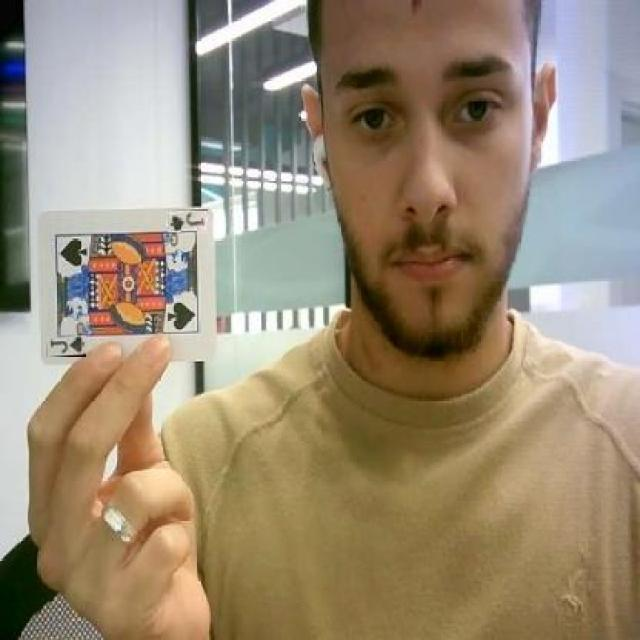JS: (168, 209, 208, 231), (46, 336, 86, 358)
